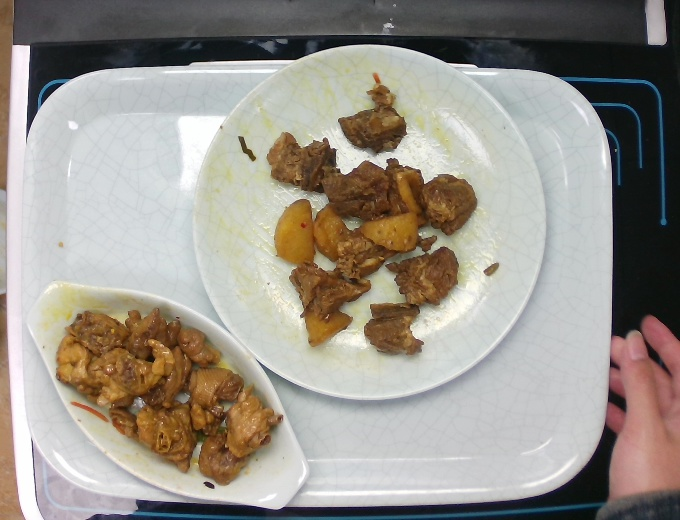JYsf-Da_Yuan_Pan: (188, 42, 550, 400)
JYsf-Yu_Pan: (24, 280, 312, 512)
